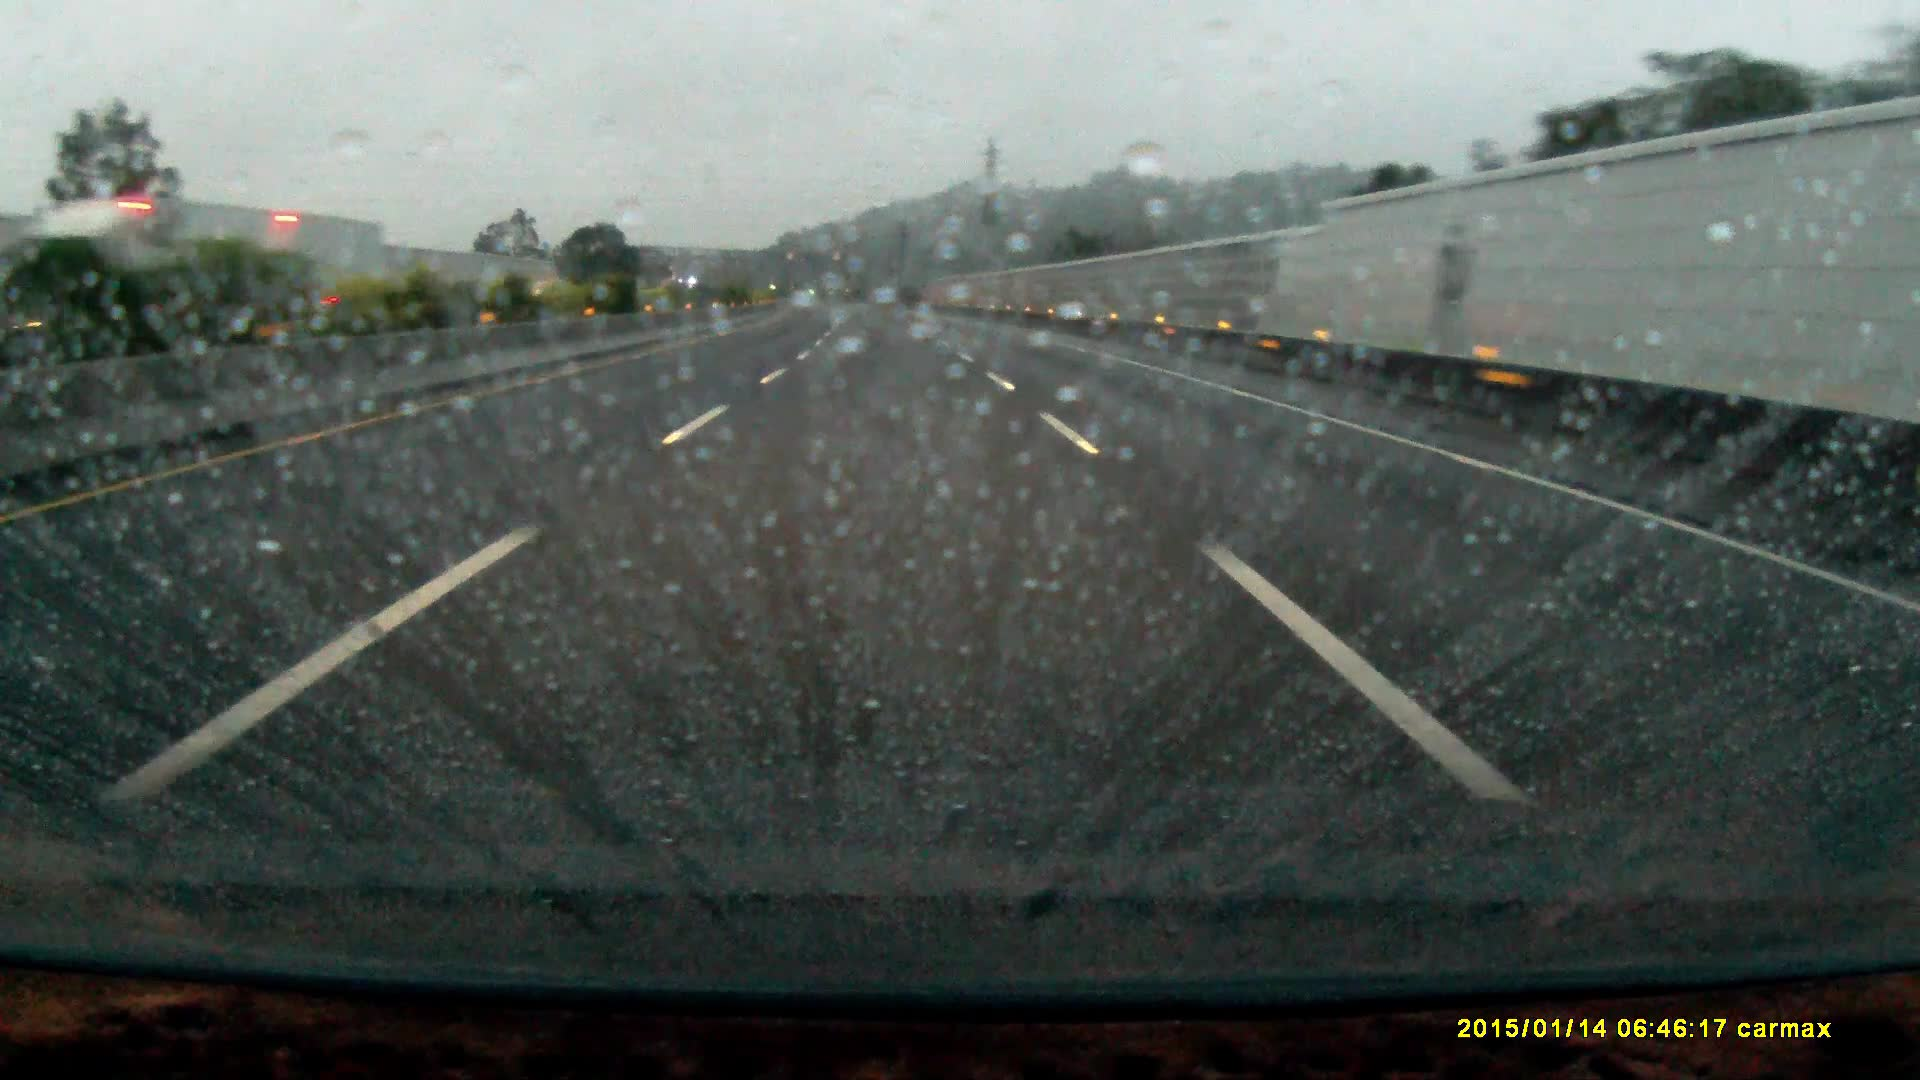vehicle: (59, 206, 356, 338)
